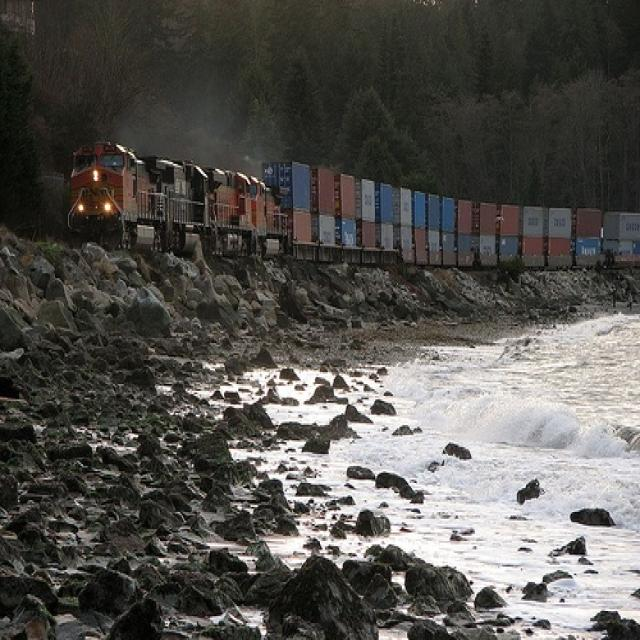train: (69, 127, 640, 269)
